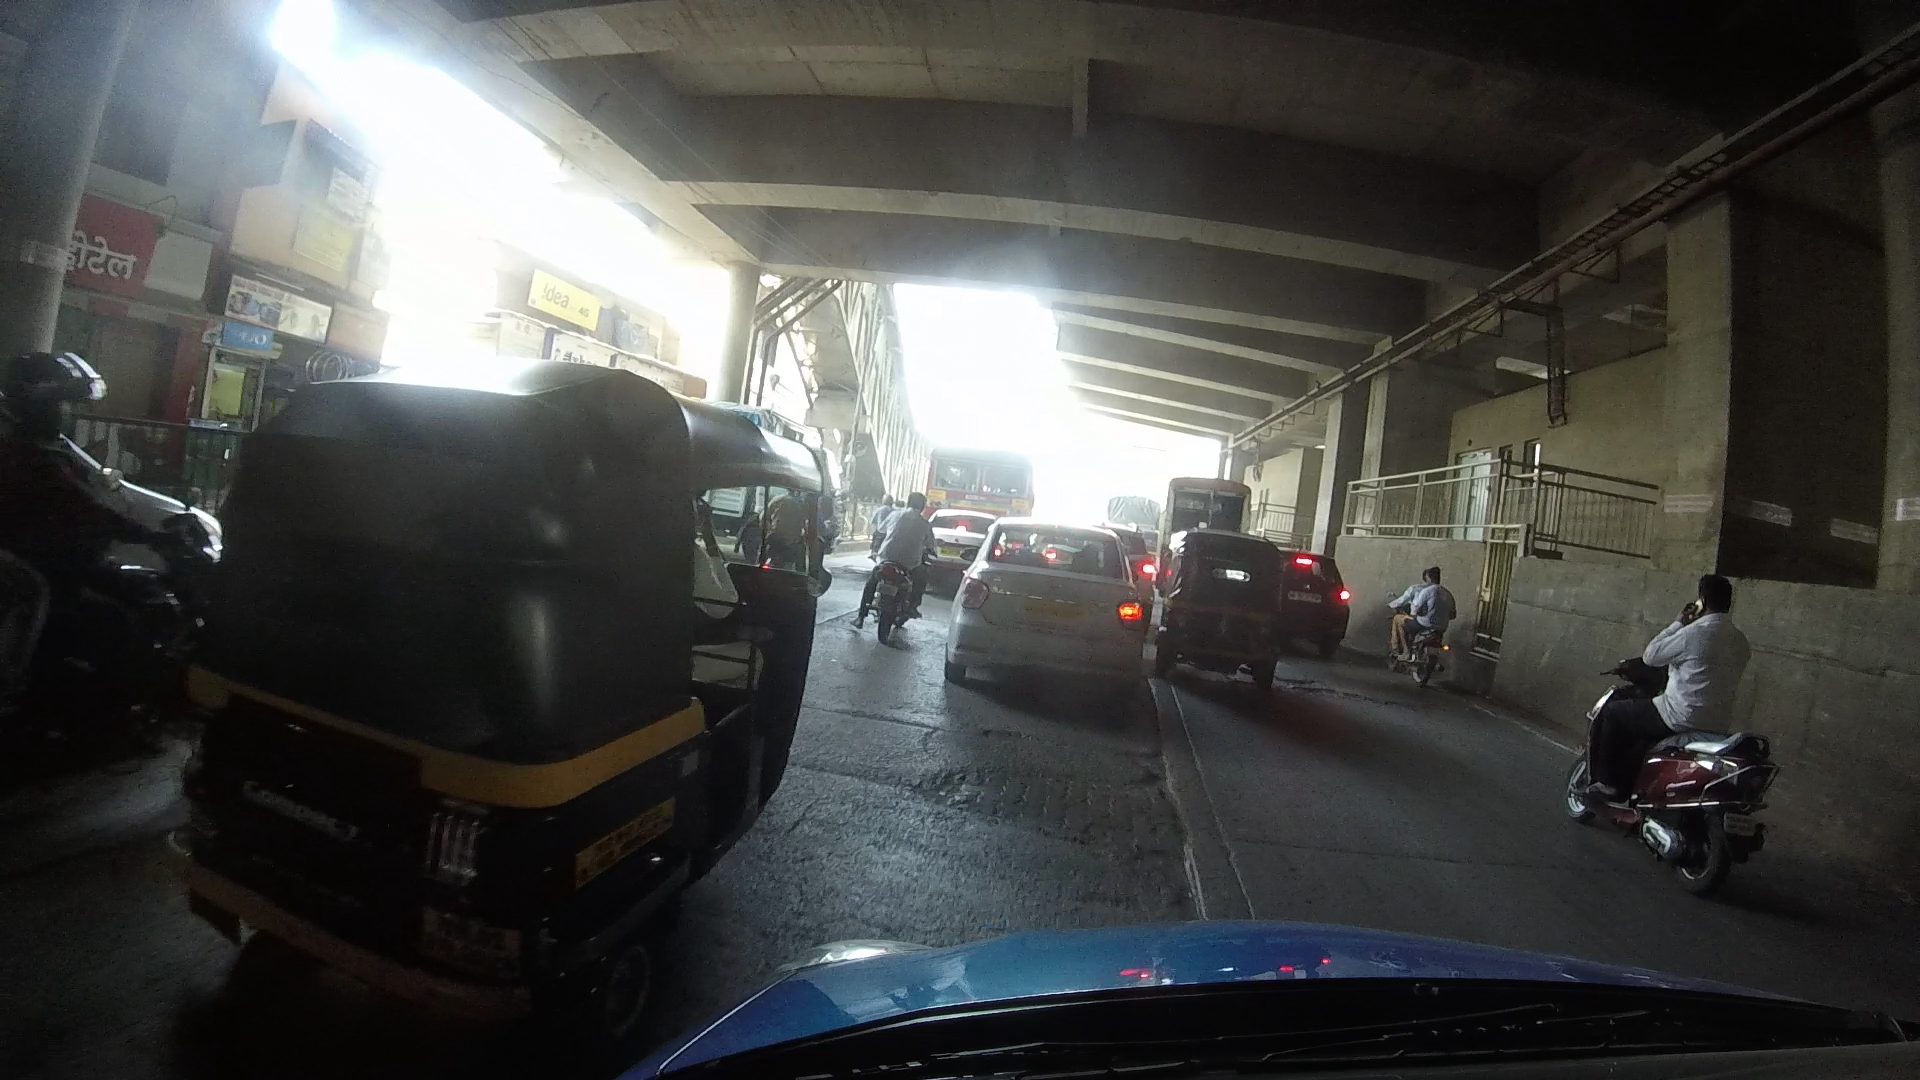bike/scooter: (25, 342, 222, 754), (1561, 572, 1768, 874), (849, 483, 952, 654), (1378, 556, 1447, 686)
car: (949, 520, 1158, 702), (1266, 549, 1356, 642)
rickshaw: (211, 380, 808, 948), (1163, 522, 1278, 676)
